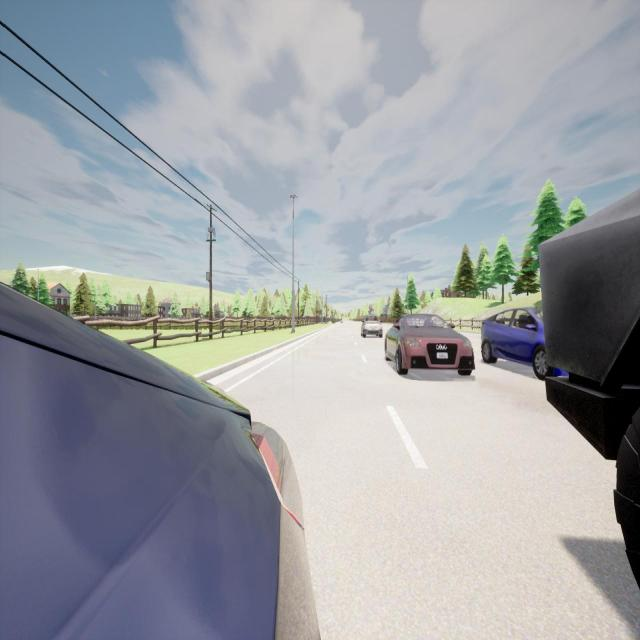Vehicle: (1, 284, 319, 640), (538, 188, 640, 587), (482, 299, 568, 380), (384, 313, 476, 377), (361, 313, 384, 340), (339, 319, 345, 325)
